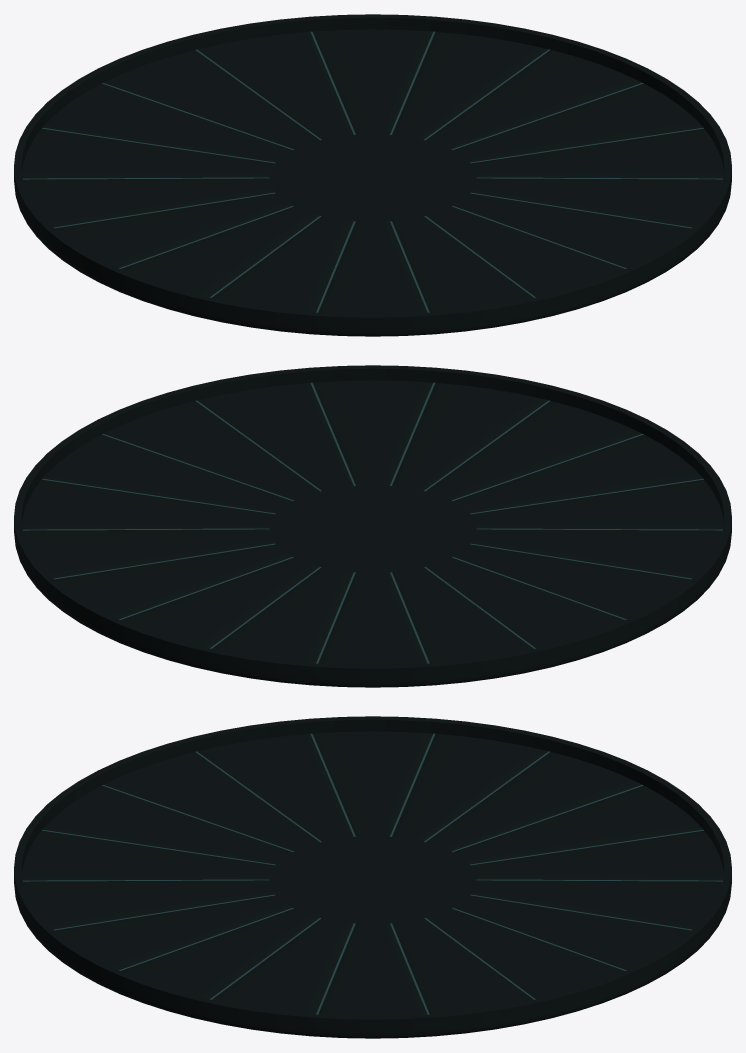
The model's file is CirculoBalanca.fbx.
3 renders of one model, top to bottom at view 1: azimuth 30°, elevation 25°; view 2: azimuth 150°, elevation 25°; view 3: azimuth 270°, elevation 25°, orthographic.
Parts seen in each view (by area): view 1: Circle.019; view 2: Circle.019; view 3: Circle.019.
Part boxes in pixels (box(x1,y1,x2,y2)): Circle.019: box(14, 14, 731, 336); Circle.019: box(14, 365, 731, 687); Circle.019: box(14, 716, 731, 1038).
Bounding box in the file's own units: 1609 × 50.66 × 1609.
